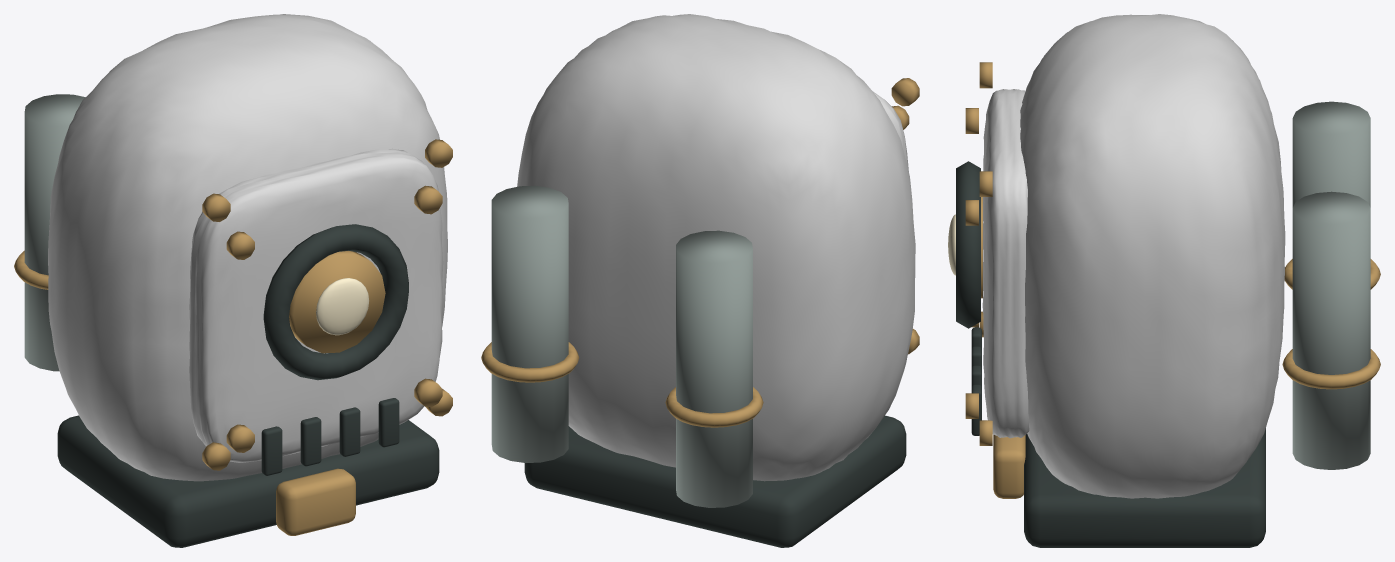
File: hotshot-torso-1.glb
The picture shows the model from 3 angles, left to right: view 1: azimuth 30°, elevation 25°; view 2: azimuth 150°, elevation 25°; view 3: azimuth 270°, elevation 25°; orthographic projection.
Visible parts, largest first — view 1: torso_clay, torso_mechanism, torso_brass, torso_steel, torso_lens; view 2: torso_clay, torso_steel, torso_mechanism, torso_brass; view 3: torso_clay, torso_steel, torso_mechanism, torso_brass.
Boxes of the visible parts, x1,y1,x2,y2 form: torso_clay: (48,14,447,481); torso_mechanism: (57,224,439,547); torso_brass: (14,139,452,535); torso_steel: (24,94,85,371); torso_lens: (316,278,369,335); torso_clay: (517,14,915,481); torso_steel: (491,185,752,507); torso_mechanism: (524,415,906,547); torso_brass: (481,78,919,427); torso_clay: (982,14,1285,498); torso_steel: (1292,101,1370,469); torso_mechanism: (956,161,1265,547); torso_brass: (965,62,1380,498).
Bounding box in the file's own units: 0.9832 × 1.19 × 1.05.
